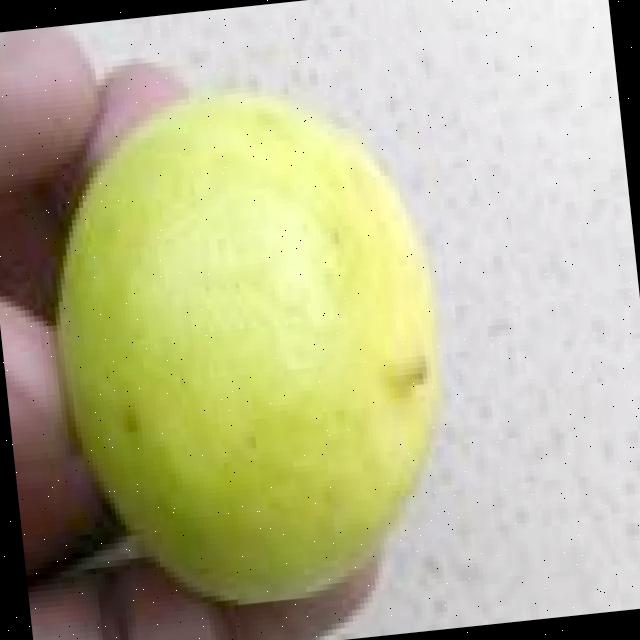Good_Lime-10-21-days: (45, 86, 439, 610)
